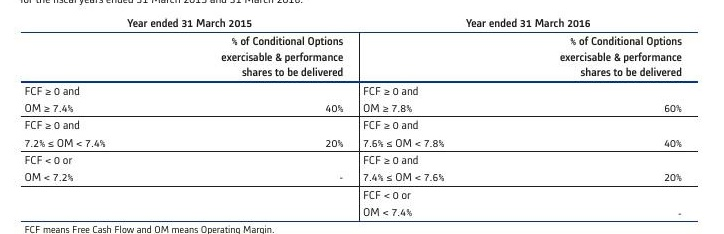table: (0, 0, 724, 234)
